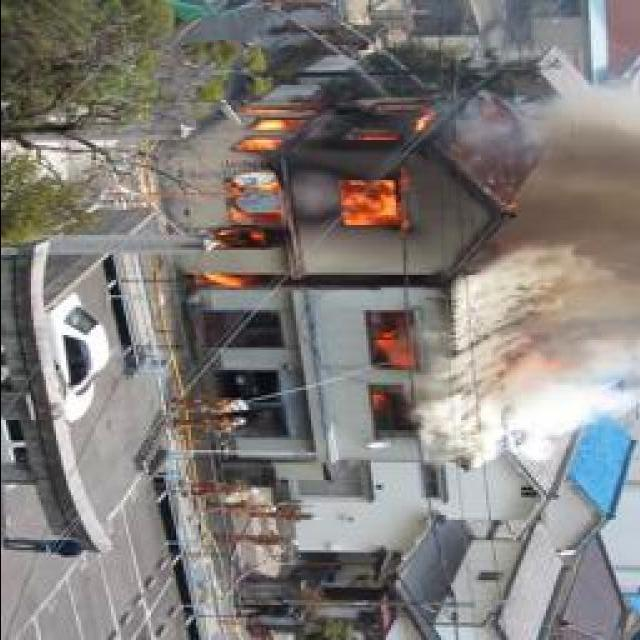Fire: (188, 78, 452, 294), (365, 318, 423, 444)
